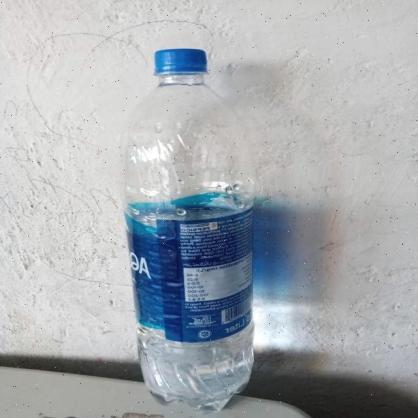bottle: (120, 47, 252, 410)
cap: (152, 48, 208, 78)
label: (124, 208, 250, 337)
